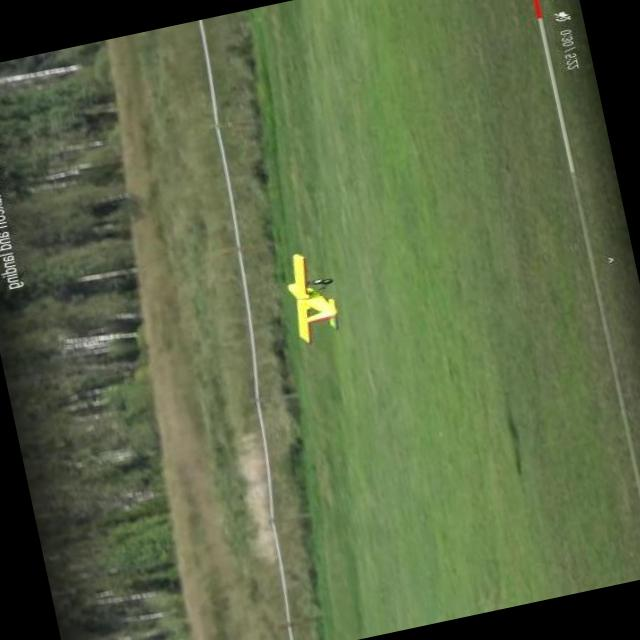UAV: (260, 228, 368, 388)
